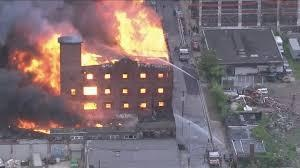fire: (106, 2, 169, 59), (13, 33, 62, 91), (16, 117, 59, 133)
